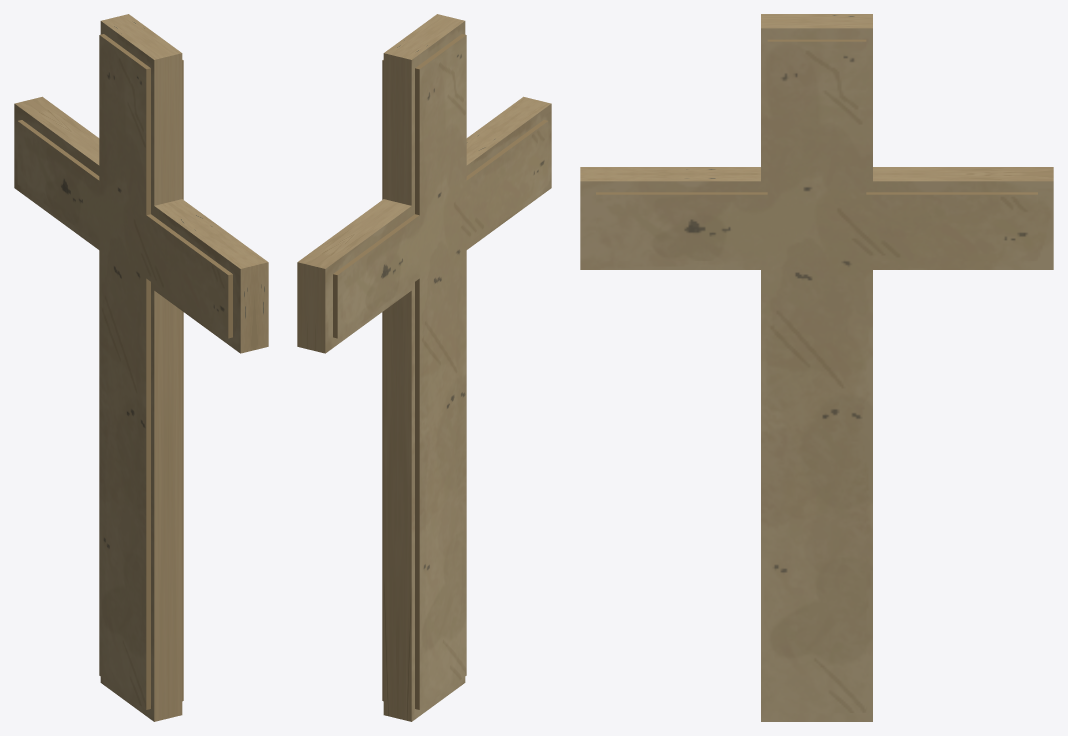
Rendered from cross.fbx.
The picture shows the model from 3 angles, left to right: view 1: azimuth 30°, elevation 25°; view 2: azimuth 150°, elevation 25°; view 3: azimuth 270°, elevation 25°; orthographic projection. The views are drawn at different scales.
Parts seen in each view (by area): view 1: cross; view 2: cross; view 3: cross.
Boxes of the visible parts, x1,y1,x2,y2 form: cross: (14,14,268,721); cross: (297,14,551,721); cross: (580,14,1053,721).
Bounding box in the file's own units: 7.03 × 120 × 74.26.
